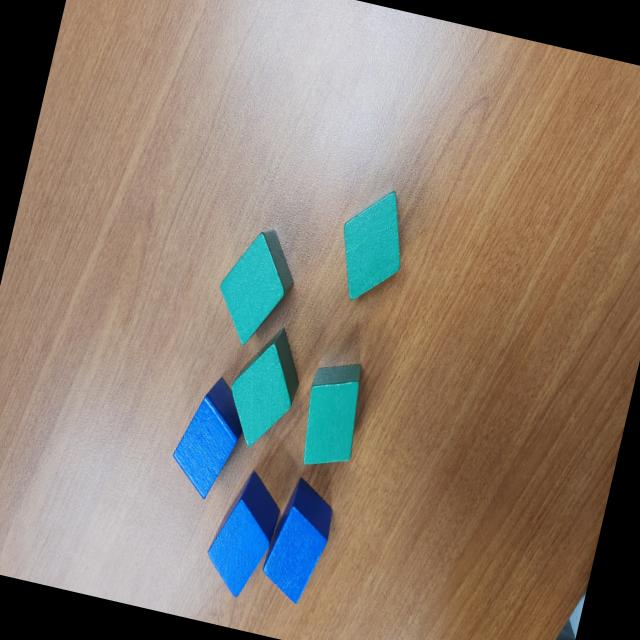blue: (198, 464, 288, 602), (164, 371, 250, 503), (256, 474, 340, 608)
green: (216, 318, 311, 456), (207, 222, 303, 351), (326, 180, 416, 307), (292, 355, 371, 474)
